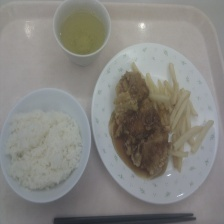rice: (0, 103, 85, 202)
